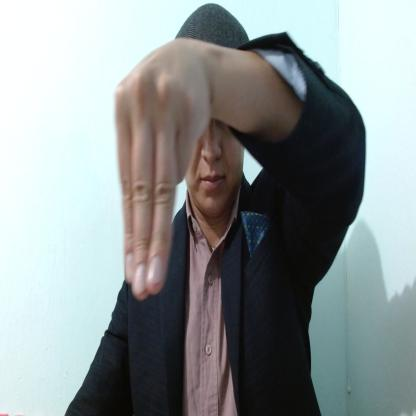M: (116, 40, 213, 304)
